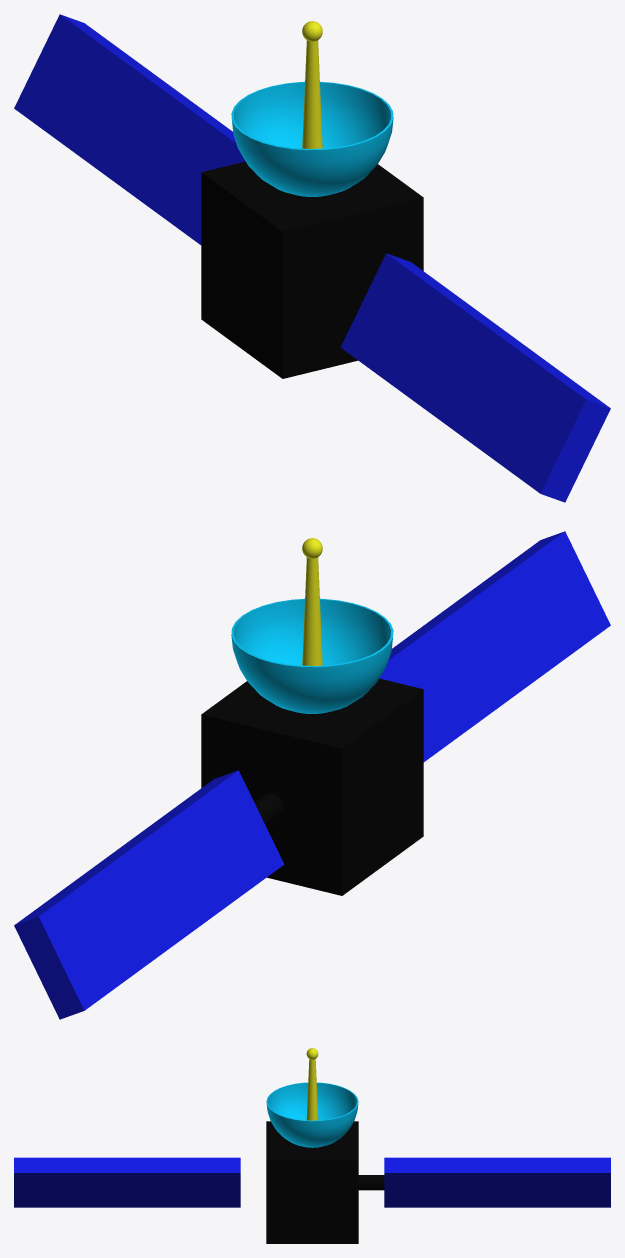
The model's file is tp2_satellite.glb.
3 views of the same model, one above another, from view 1: azimuth 30°, elevation 25°; view 2: azimuth 150°, elevation 25°; view 3: azimuth 270°, elevation 25° (orthographic). The views are drawn at different scales.
Visible parts, largest first — view 1: Cube.001, Cube, Cube.002, Cube.003; view 2: Cube.001, Cube, Cube.002, Cube.003, Cube.004; view 3: Cube.001, Cube, Cube.002, Cube.003, Cube.004.
Boxes of the visible parts, x1=… form: Cube.001: x1=14, y1=14, x2=610, y2=502; Cube: x1=201, y1=161, x2=423, y2=378; Cube.002: x1=231, y1=81, x2=393, y2=196; Cube.003: x1=302, y1=21, x2=322, y2=148; Cube.001: x1=14, y1=531, x2=610, y2=1019; Cube: x1=201, y1=678, x2=423, y2=895; Cube.002: x1=231, y1=598, x2=393, y2=713; Cube.003: x1=302, y1=538, x2=322, y2=665; Cube.004: x1=254, y1=792, x2=283, y2=826; Cube.001: x1=14, y1=1157, x2=610, y2=1207; Cube: x1=266, y1=1121, x2=358, y2=1243; Cube.002: x1=266, y1=1082, x2=358, y2=1147; Cube.003: x1=306, y1=1048, x2=318, y2=1120; Cube.004: x1=358, y1=1175, x2=384, y2=1190.
Size of the model in its own units: 2 by 4.21 by 12.96.
